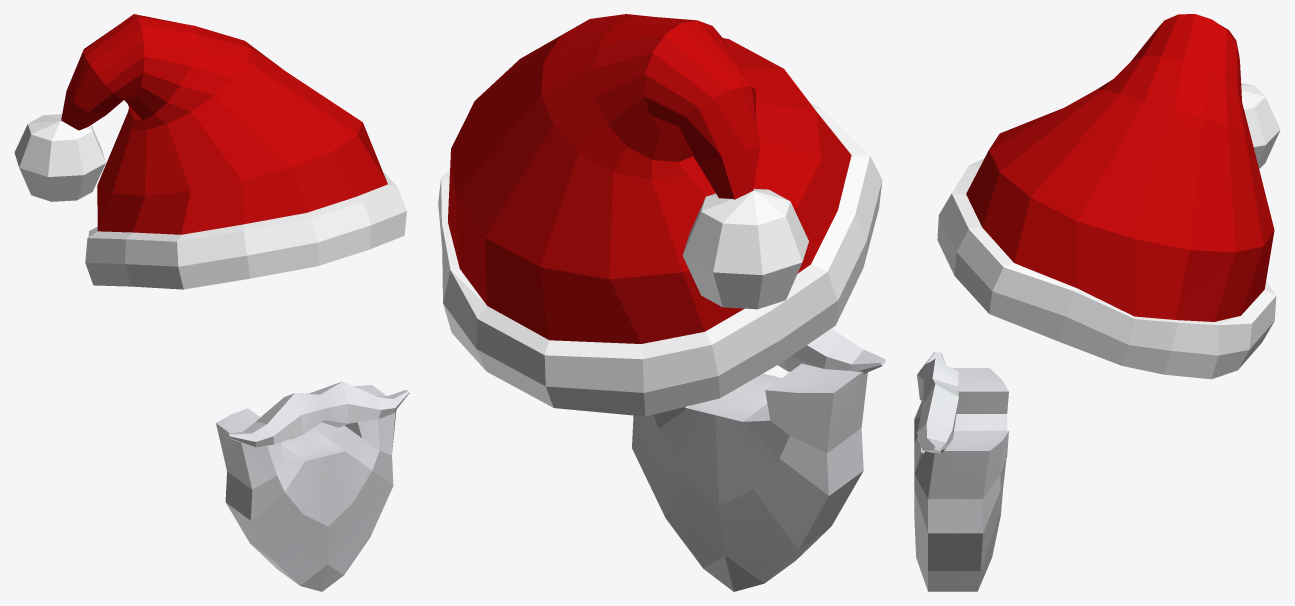
File: santaset.fbx
3 views of the same model, side by side, from view 1: azimuth 30°, elevation 25°; view 2: azimuth 150°, elevation 25°; view 3: azimuth 270°, elevation 25° (orthographic). The views are drawn at different scales.
Parts seen in each view (by area): view 1: santahat, santabeard; view 2: santahat, santabeard; view 3: santahat, santabeard.
Boxes of the visible parts, <box> form: santahat: <box>14,14,406,289</box>; santabeard: <box>216,381,409,591</box>; santahat: <box>438,14,882,416</box>; santabeard: <box>632,328,885,591</box>; santahat: <box>937,14,1280,379</box>; santabeard: <box>914,351,1008,591</box>.
Size of the model in its own units: 32.34 by 49.87 by 30.37.
